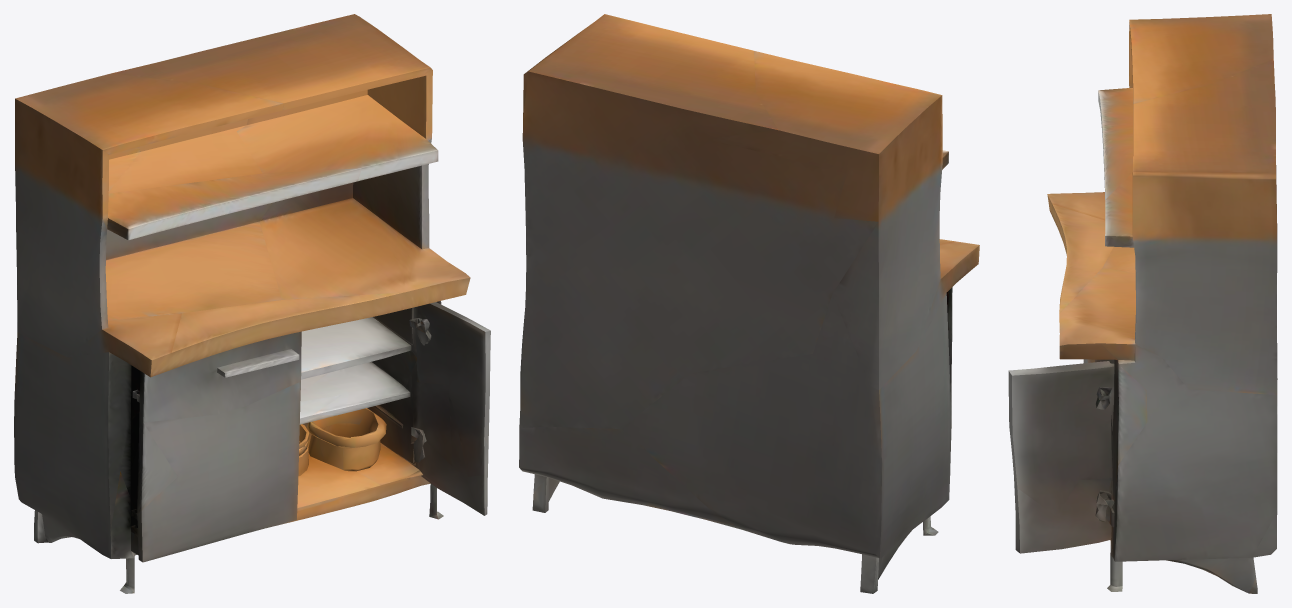
Rendered from prepCounterR.glb.
The picture shows the model from 3 angles, left to right: view 1: azimuth 30°, elevation 25°; view 2: azimuth 150°, elevation 25°; view 3: azimuth 270°, elevation 25°; orthographic projection. The views are drawn at different scales.
Parts seen in each view (by area): view 1: model; view 2: model; view 3: model.
Boxes of the visible parts, x1,y1,x2,y2 form: model: (14,14,490,593); model: (519,14,979,593); model: (1008,14,1277,593).
Size of the model in its own units: 1.59 by 1.9 by 1.1.
Materials: 1 (1 with a texture image).
